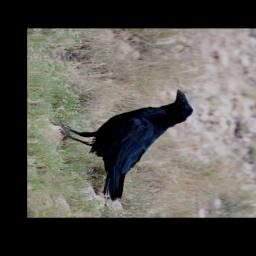Crow: (51, 88, 195, 204)
